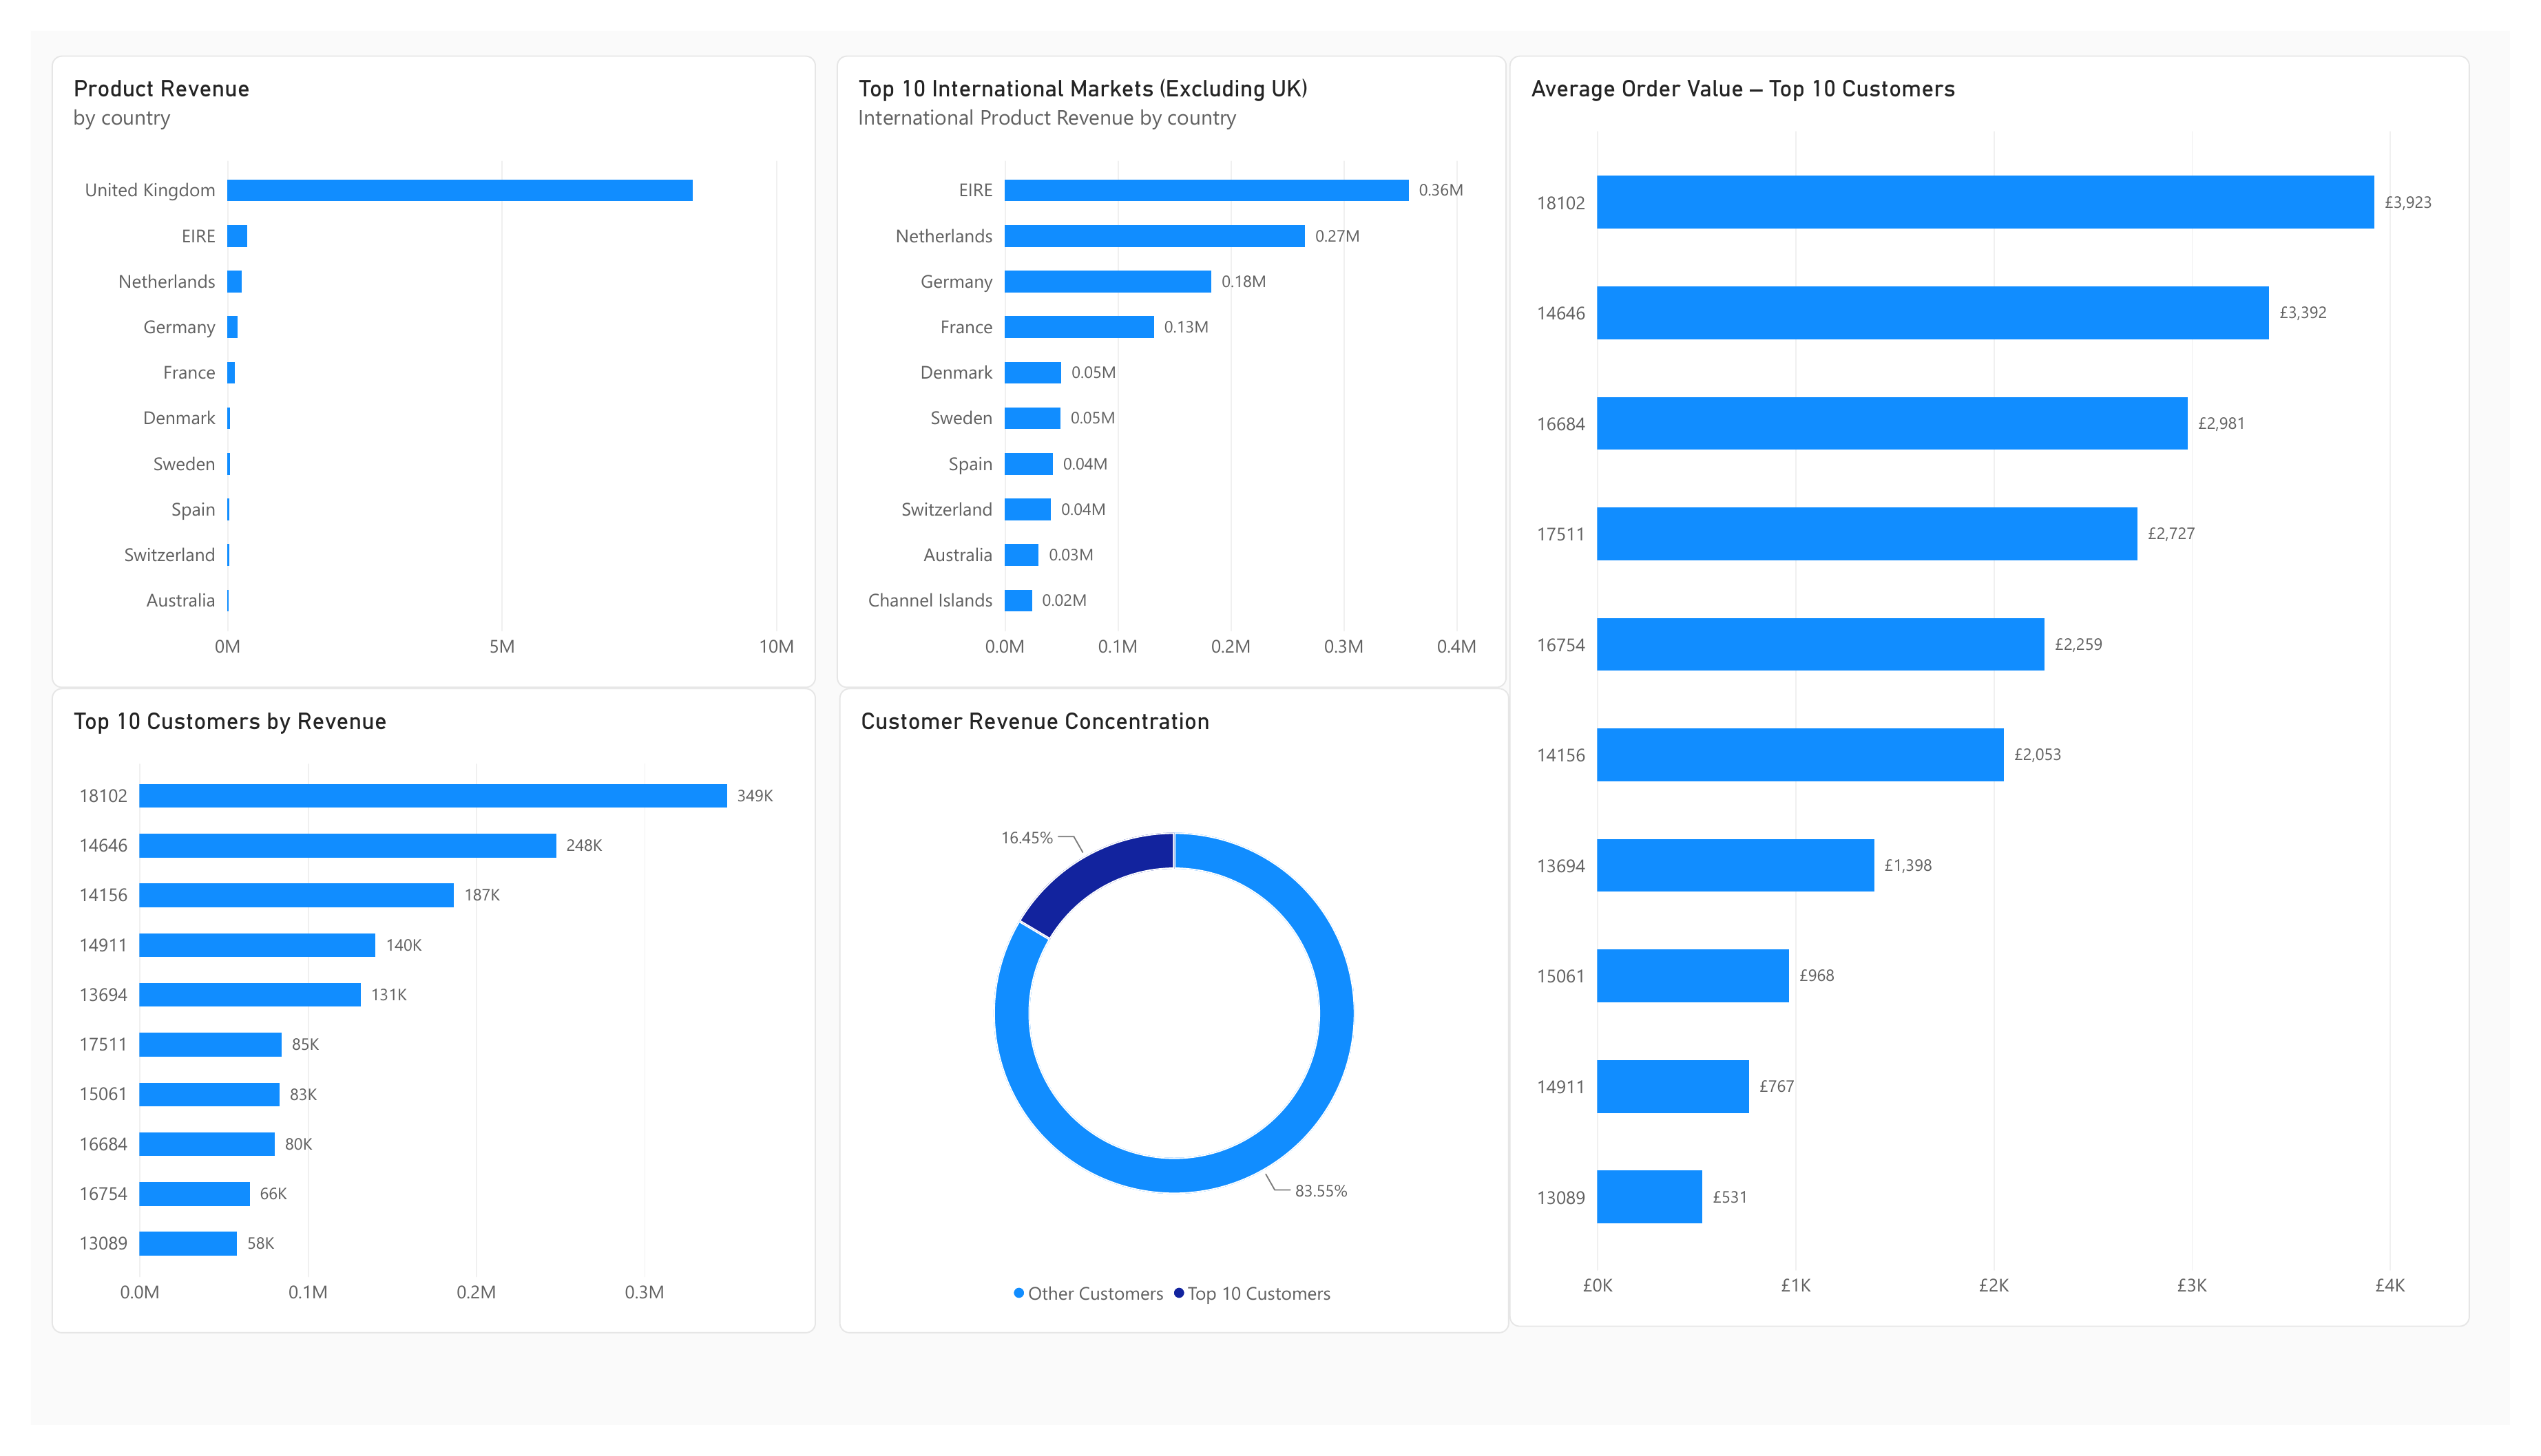

Layout of this report page (visuals, bound fields, positions):
{"tool":"powerbi","page":{"name":"Sales & Customer Insights","canvas":[1920,1080],"ordinal":1},"visuals":[{"type":"clusteredBarChart","fields":{"Category":["sales_analysis.country"],"Y":["sales_analysis.Product Revenue"]},"box":[16.4,18.8,591.3,490.4],"z":0},{"type":"clusteredBarChart","title":"Top 10 International Markets (Excluding UK)","fields":{"Category":["sales_analysis.country"],"Y":["sales_analysis.International Product Revenue"]},"box":[624.1,18.8,518.5,490.4],"z":1},{"type":"clusteredBarChart","title":"Top 10 Customers by Revenue","fields":{"Category":["sales_analysis.customer_id"],"Y":["sales_analysis.Customer Product Revenue"]},"box":[16.4,509.1,591.3,499.7],"z":2},{"type":"donutChart","title":"Customer Revenue Concentration","fields":{"Category":["CustomerGroups.Customer Group"],"Y":["CustomerGroups.Customer Group Revenue"]},"box":[626.4,509.1,518.5,499.7],"z":3},{"type":"clusteredBarChart","title":"Average Order Value – Top 10 Customers","fields":{"Category":["sales_analysis.customer_id"],"Y":["CustomerGroups.Customer AOV"]},"box":[1145,18.8,743.8,985.4],"z":4}]}

Visuals, with their boxes in screenshot pixels (x1, y1, x2, y2), scaled from the page's 1920x1080 canvas onto the 2541x1456 screenshot:
clusteredBarChart - sales_analysis.country x sales_analysis.Product Revenue: Rect(22, 25, 804, 686)
"Top 10 International Markets (Excluding UK)" clusteredBarChart: Rect(826, 25, 1512, 686)
"Top 10 Customers by Revenue" clusteredBarChart: Rect(22, 686, 804, 1360)
"Customer Revenue Concentration" donutChart: Rect(829, 686, 1515, 1360)
"Average Order Value – Top 10 Customers" clusteredBarChart: Rect(1516, 25, 2500, 1354)
